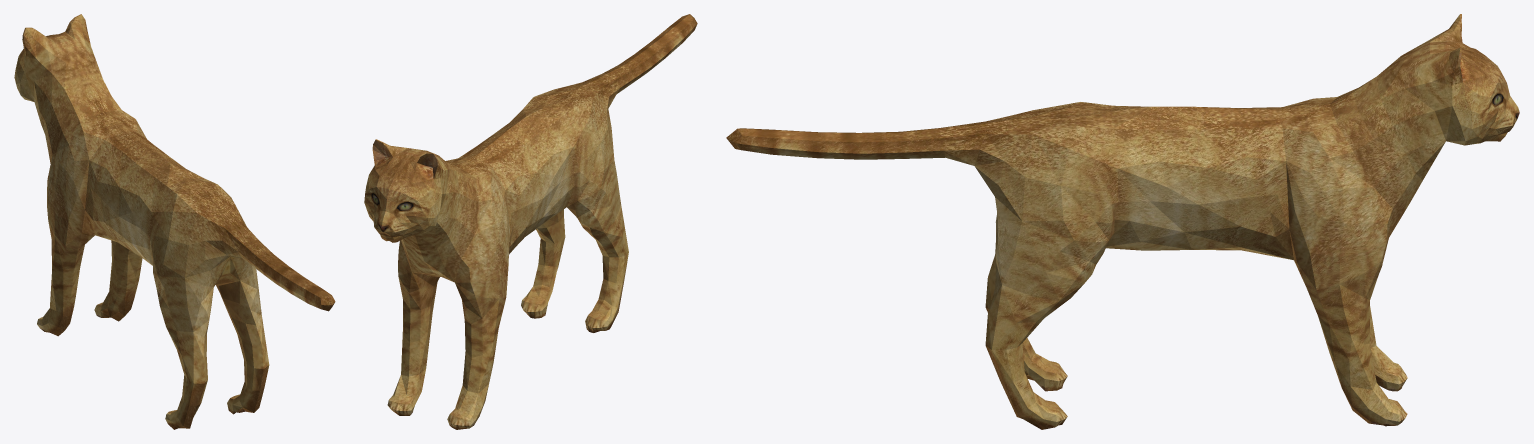
File: V8JKOC825T8WJ0L34BMKNNFK8.obj
The picture shows the model from 3 angles, left to right: view 1: azimuth 30°, elevation 25°; view 2: azimuth 150°, elevation 25°; view 3: azimuth 270°, elevation 25°; orthographic projection. The views are drawn at different scales.
Visible parts, largest first — view 1: Object_cat.jpg; view 2: Object_cat.jpg; view 3: Object_cat.jpg.
Part boxes in pixels (x1,y1,x2,y2): Object_cat.jpg: [14, 14, 335, 429]; Object_cat.jpg: [364, 14, 697, 429]; Object_cat.jpg: [726, 14, 1519, 429].
Bounding box in the file's own units: 0.4312 × 1.3 × 2.5.
1 material, 1 textured.
